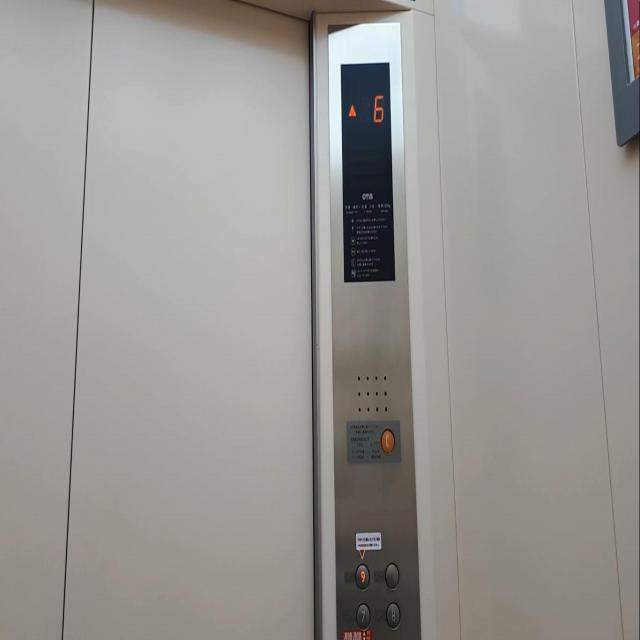7: (356, 602, 370, 630)
8: (386, 600, 400, 628)
9: (355, 562, 370, 590)
call: (380, 427, 395, 455)
empty: (385, 561, 399, 589)
led: (338, 57, 398, 286)
